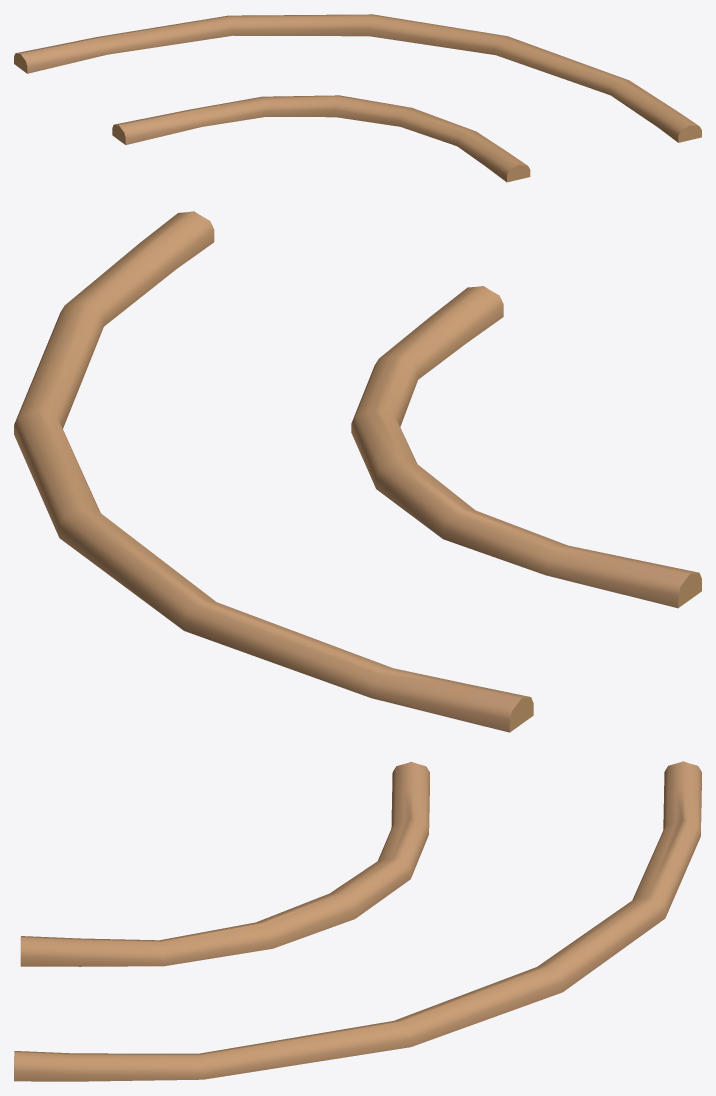
Rendered from DirtBikeSandTrackBarriersCurved.glb.
3 views of the same model, one above another, from view 1: azimuth 30°, elevation 25°; view 2: azimuth 150°, elevation 25°; view 3: azimuth 270°, elevation 25° (orthographic). The views are drawn at different scales.
Visible parts, largest first — view 1: DirtBikeSandTrackBarriersCurved; view 2: DirtBikeSandTrackBarriersCurved; view 3: DirtBikeSandTrackBarriersCurved.
Part boxes in pixels (left/top/right/bottom): DirtBikeSandTrackBarriersCurved: left=14, top=14, right=701, bottom=182; DirtBikeSandTrackBarriersCurved: left=14, top=211, right=701, bottom=732; DirtBikeSandTrackBarriersCurved: left=14, top=761, right=701, bottom=1081.
Size of the model in its own units: 11.82 by 0.3824 by 11.46.
1 material, 1 textured.
